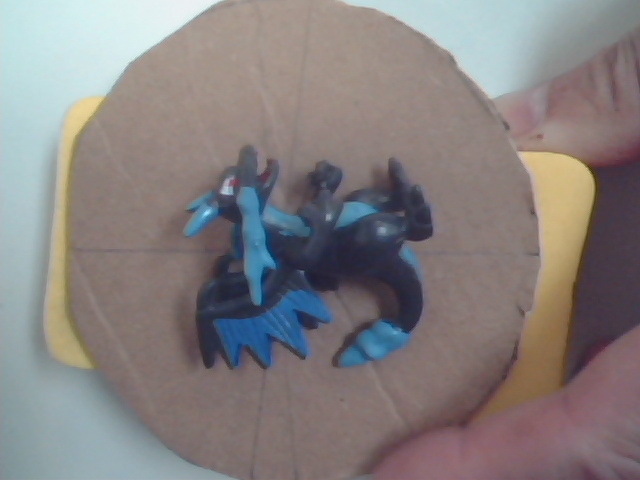charizard: (154, 87, 514, 427)
